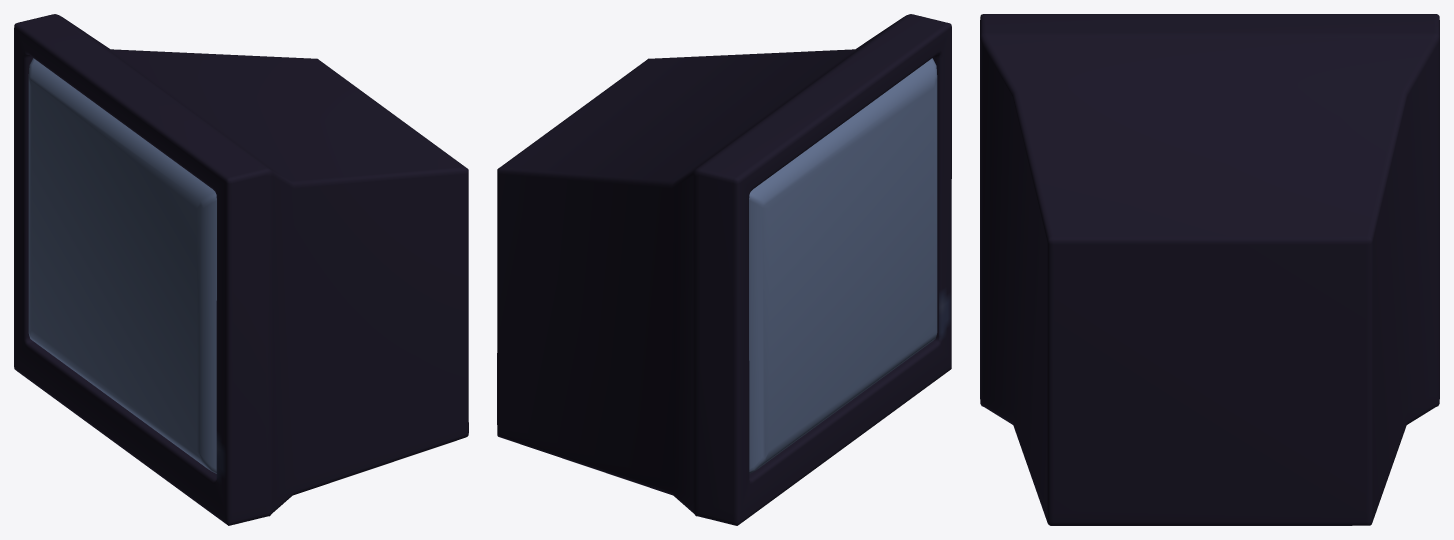
The picture shows the model from 3 angles, left to right: view 1: azimuth 30°, elevation 25°; view 2: azimuth 150°, elevation 25°; view 3: azimuth 270°, elevation 25°; orthographic projection. The views are drawn at different scales.
Visible parts, largest first — view 1: TV; view 2: TV; view 3: TV.
Boxes of the visible parts, left/top/right/bottom form: TV: left=14, top=14, right=468, bottom=525; TV: left=497, top=14, right=951, bottom=525; TV: left=980, top=14, right=1439, bottom=525.
Bounding box in the file's own units: 0.4698 × 0.5571 × 0.6248.
1 material, 1 textured.
